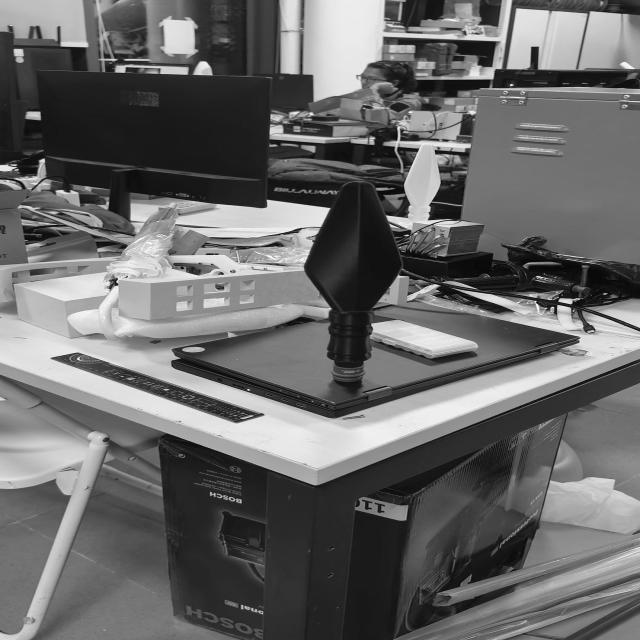base: (328, 360, 374, 388)
